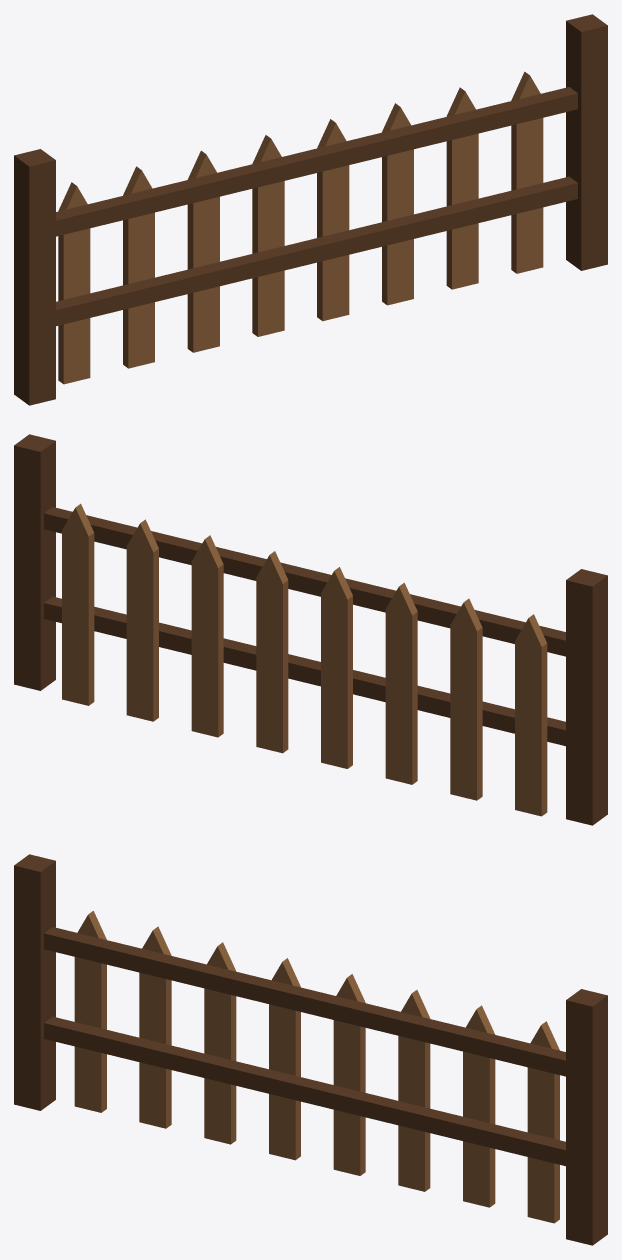
Rendered from Fence_Section.fbx.
3 renders of one model, top to bottom at view 1: azimuth 30°, elevation 25°; view 2: azimuth 150°, elevation 25°; view 3: azimuth 330°, elevation 25°, orthographic.
Visible parts, largest first — view 1: Fence_Section; view 2: Fence_Section; view 3: Fence_Section.
Boxes of the visible parts, x1,y1,x2,y2 form: Fence_Section: [14, 14, 607, 405]; Fence_Section: [14, 434, 607, 825]; Fence_Section: [14, 854, 607, 1245].
Bounding box in the file's own units: 3.04 × 1.2 × 0.17.
